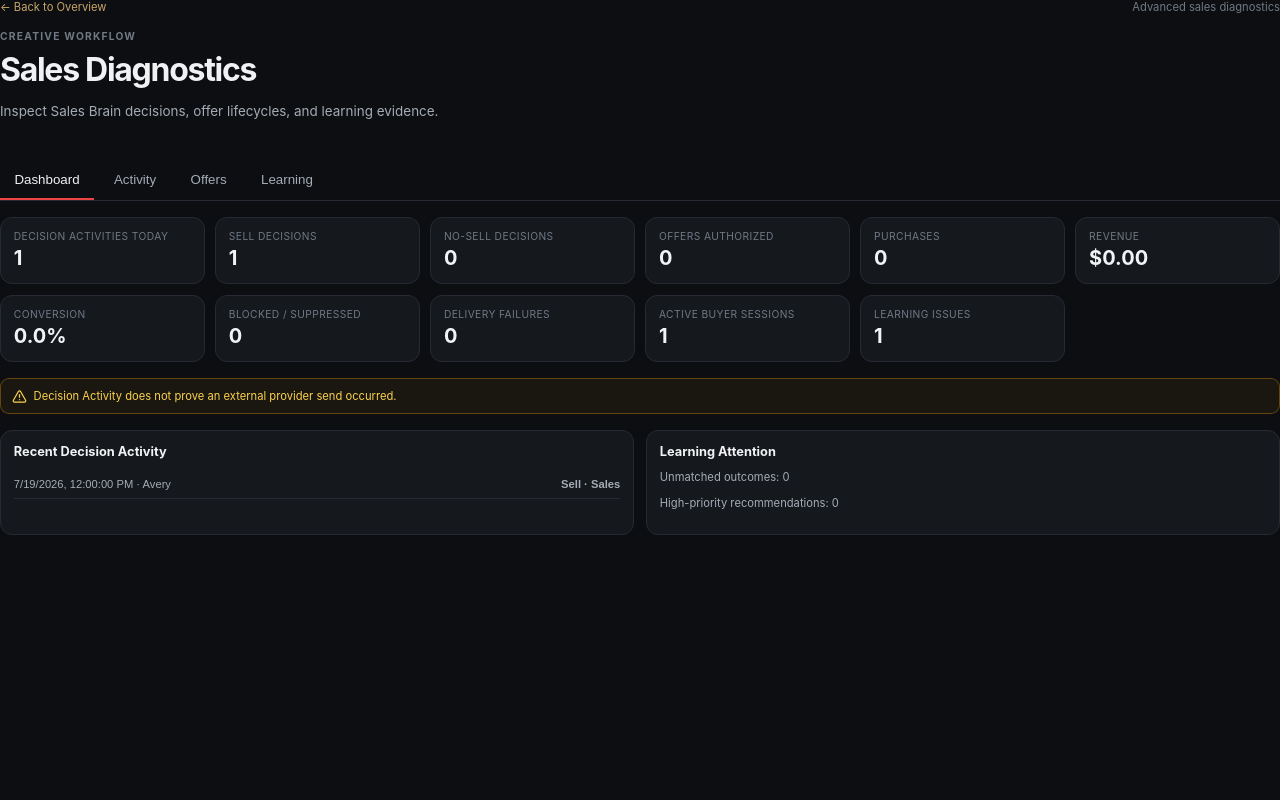
BusinessSalesPage › renders offers and learning tabs
Check: the text "Decision Activities Today" is shown, box [14,230,191,242]
Click the tab "Offers": (209, 181) [176,162,241,200]
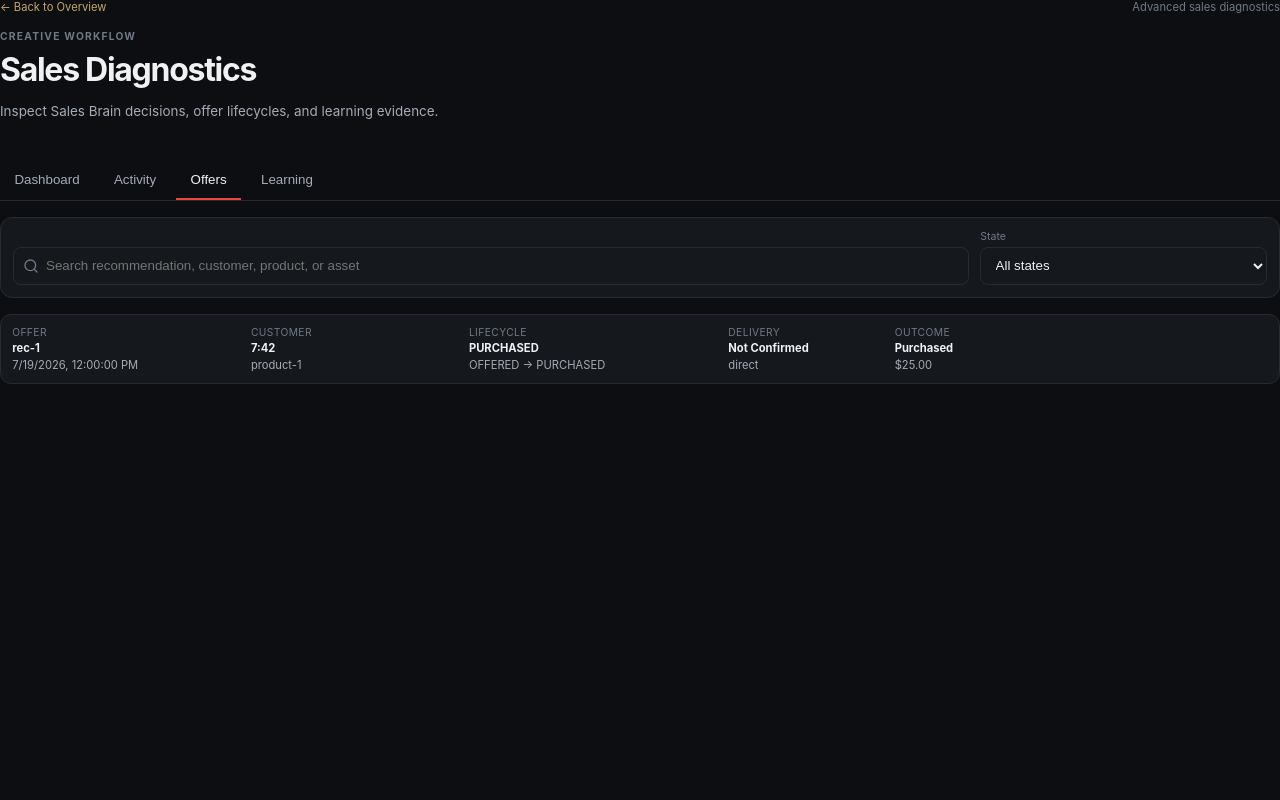
Check: the text "rec-1" is shown, box [12,341,40,355]
Click the tab "Learning": (287, 181) [247,162,327,200]
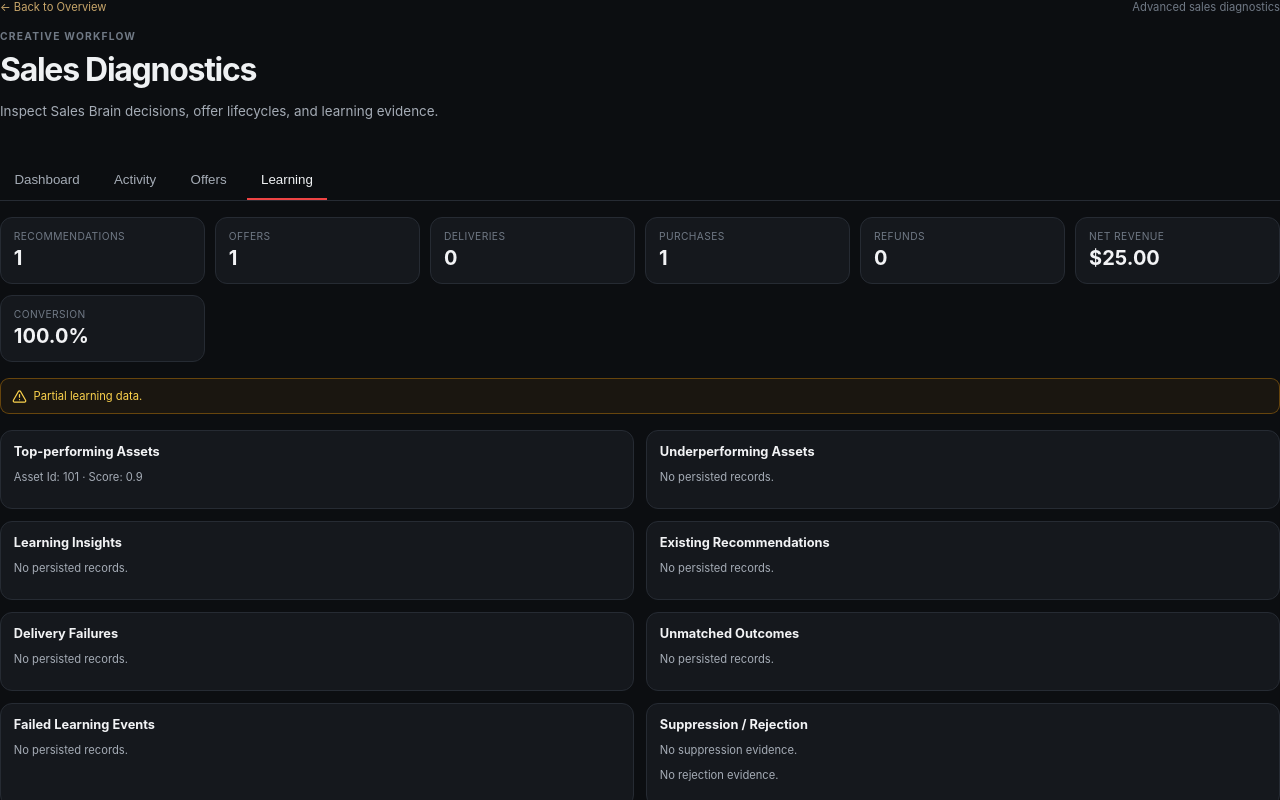
Check: the heading "Top-performing Assets" is shown, box [14,444,160,459]
Check: the text "Partial learning data." is shown, box [0,378,1279,414]
